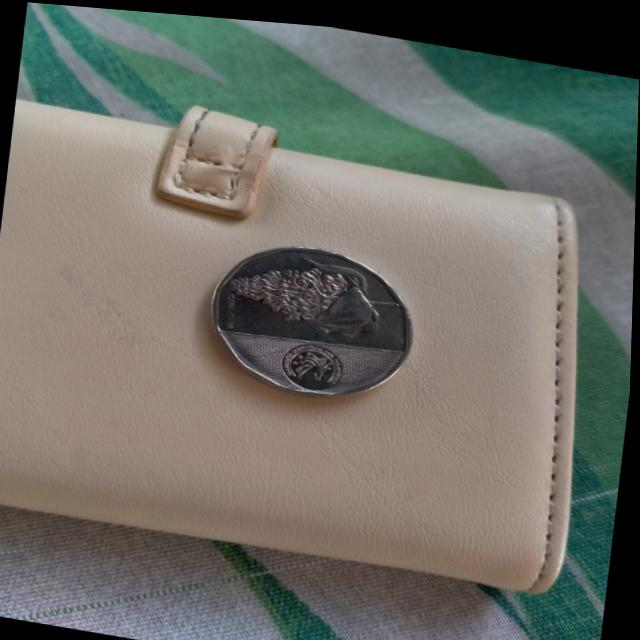10_New_Back: (222, 240, 414, 344)
